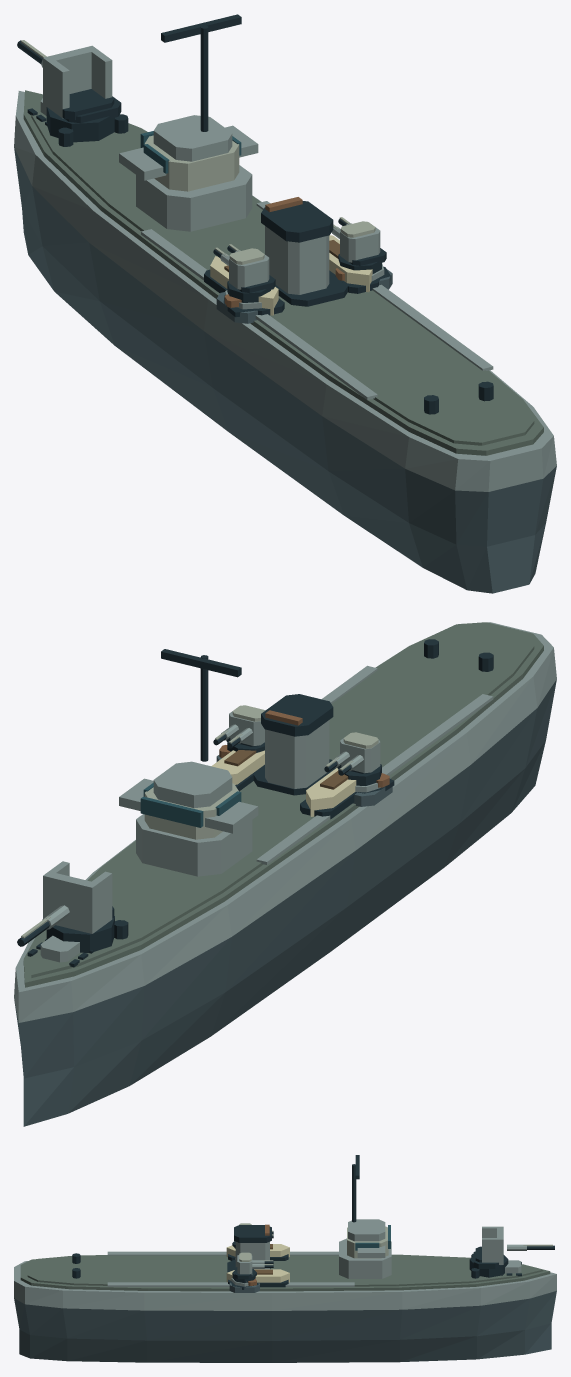
Rendered from historic-natal.glb.
The picture shows the model from 3 angles, top to bottom: view 1: azimuth 30°, elevation 25°; view 2: azimuth 150°, elevation 25°; view 3: azimuth 270°, elevation 25°; orthographic projection. The views are drawn at different scales.
Parts seen in each view (by area): view 1: historic-natal-historic-natal-geometry, historic-natal-part_bridge.067-geometry, historic-natal-historic_funnel_0.070-geometry, historic-natal-turret_main_0.059-geometry, historic-natal-turret_aa_aa-port.071-geometry, historic-natal-turret_aa_aa-starboard.067-geometry; view 2: historic-natal-historic-natal-geometry, historic-natal-part_bridge.067-geometry, historic-natal-historic_funnel_0.070-geometry, historic-natal-turret_main_0.059-geometry, historic-natal-turret_aa_aa-port.071-geometry, historic-natal-turret_aa_aa-starboard.067-geometry, historic-natal-part_aa-port.071-geometry; view 3: historic-natal-historic-natal-geometry, historic-natal-part_bridge.067-geometry, historic-natal-turret_main_0.059-geometry, historic-natal-historic_funnel_0.070-geometry, historic-natal-turret_aa_aa-starboard.067-geometry, historic-natal-part_aa-starboard.067-geometry.
Part boxes in pixels (bbox=[...]): historic-natal-historic-natal-geometry: bbox=[14, 90, 556, 593]; historic-natal-part_bridge.067-geometry: bbox=[119, 14, 258, 231]; historic-natal-historic_funnel_0.070-geometry: bbox=[261, 197, 347, 306]; historic-natal-turret_main_0.059-geometry: bbox=[17, 40, 121, 142]; historic-natal-turret_aa_aa-port.071-geometry: bbox=[213, 244, 275, 302]; historic-natal-turret_aa_aa-starboard.067-geometry: bbox=[331, 217, 386, 273]; historic-natal-historic-natal-geometry: bbox=[14, 622, 556, 1126]; historic-natal-part_bridge.067-geometry: bbox=[119, 649, 258, 876]; historic-natal-historic_funnel_0.070-geometry: bbox=[253, 694, 336, 795]; historic-natal-turret_main_0.059-geometry: bbox=[17, 861, 114, 952]; historic-natal-turret_aa_aa-port.071-geometry: bbox=[324, 732, 381, 785]; historic-natal-turret_aa_aa-starboard.067-geometry: bbox=[213, 705, 265, 752]; historic-natal-part_aa-port.071-geometry: bbox=[353, 777, 392, 806]; historic-natal-historic-natal-geometry: bbox=[14, 1244, 556, 1362]; historic-natal-part_bridge.067-geometry: bbox=[339, 1155, 391, 1278]; historic-natal-turret_main_0.059-geometry: bbox=[469, 1226, 554, 1277]; historic-natal-historic_funnel_0.070-geometry: bbox=[227, 1224, 271, 1272]; historic-natal-turret_aa_aa-starboard.067-geometry: bbox=[232, 1252, 273, 1283]; historic-natal-part_aa-starboard.067-geometry: bbox=[229, 1278, 259, 1292].
Bounding box in the file's own units: 0.7667 × 1.54 × 4.11.
